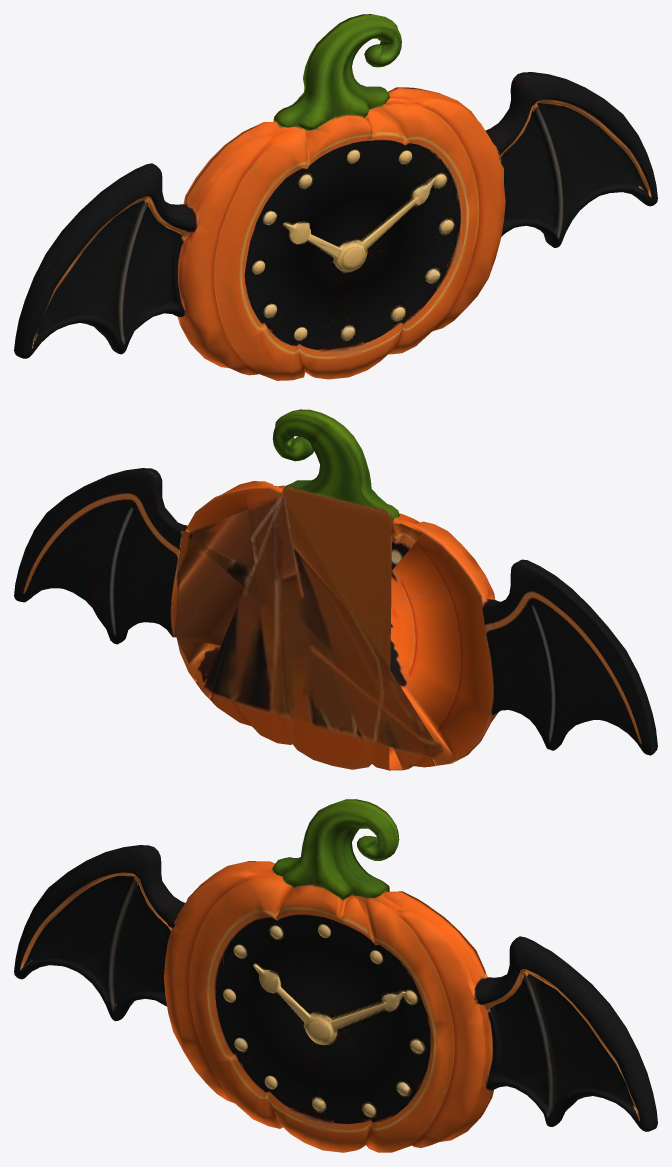
The model's file is halloween_bat_pumpkin_clock.glb.
3 views of the same model, one above another, from view 1: azimuth 30°, elevation 25°; view 2: azimuth 150°, elevation 25°; view 3: azimuth 330°, elevation 25° (orthographic).
Parts seen in each view (by area): view 1: furniture-fit; view 2: furniture-fit; view 3: furniture-fit.
Boxes of the visible parts, x1,y1,x2,y2 form: furniture-fit: (14,14,657,380); furniture-fit: (14,409,657,770); furniture-fit: (14,799,657,1152).
Bounding box in the file's own units: 1.55 × 0.7991 × 0.0918.
1 material, 1 textured.
